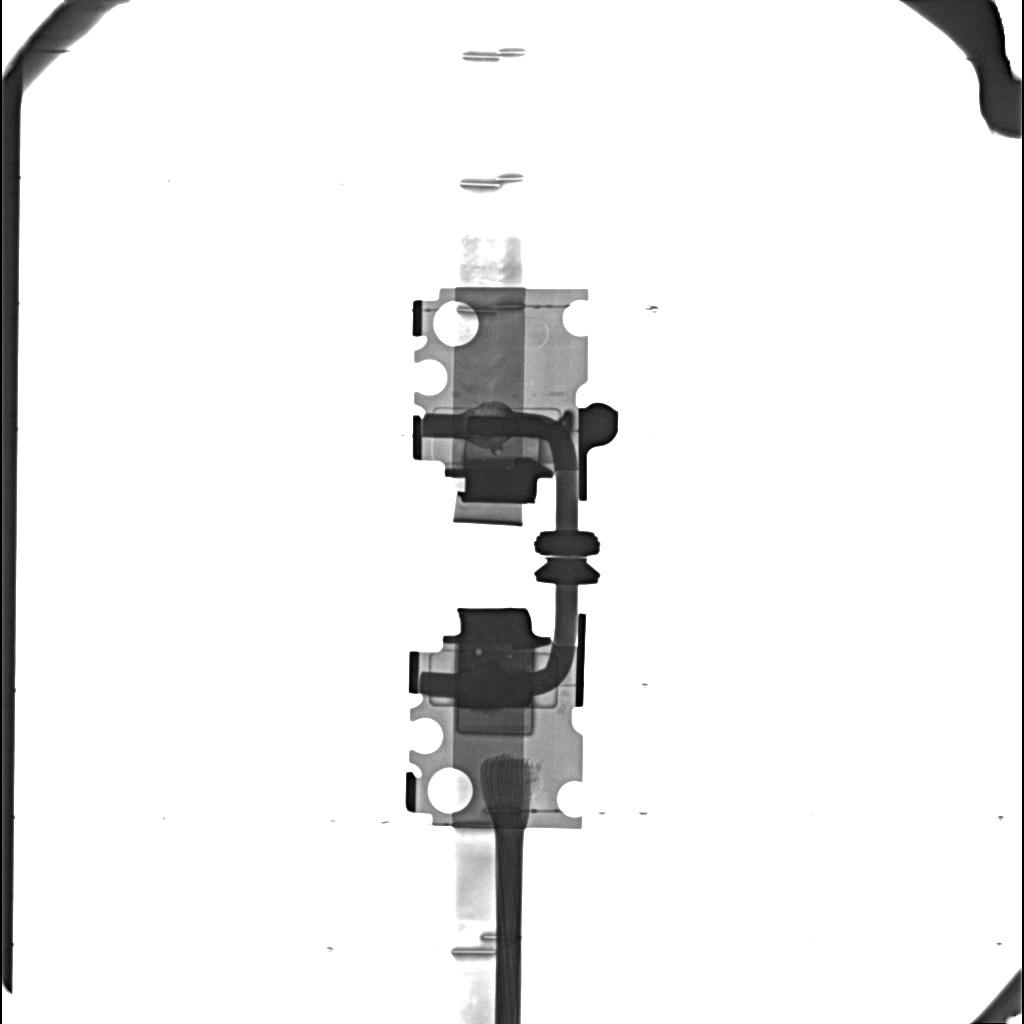PX: (456, 708, 533, 736)
SX: (457, 665, 531, 708), (467, 416, 544, 437)
